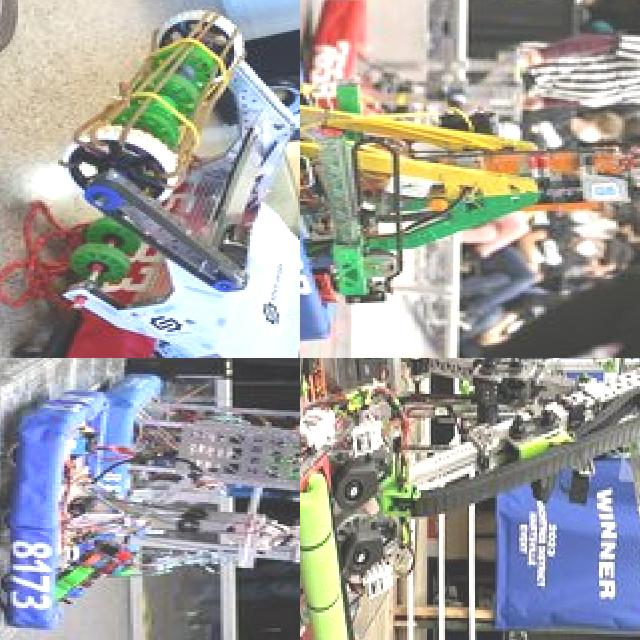FRC-Robots: (300, 46, 640, 354), (300, 358, 640, 640), (32, 14, 300, 358), (0, 380, 300, 640), (316, 0, 548, 117)
